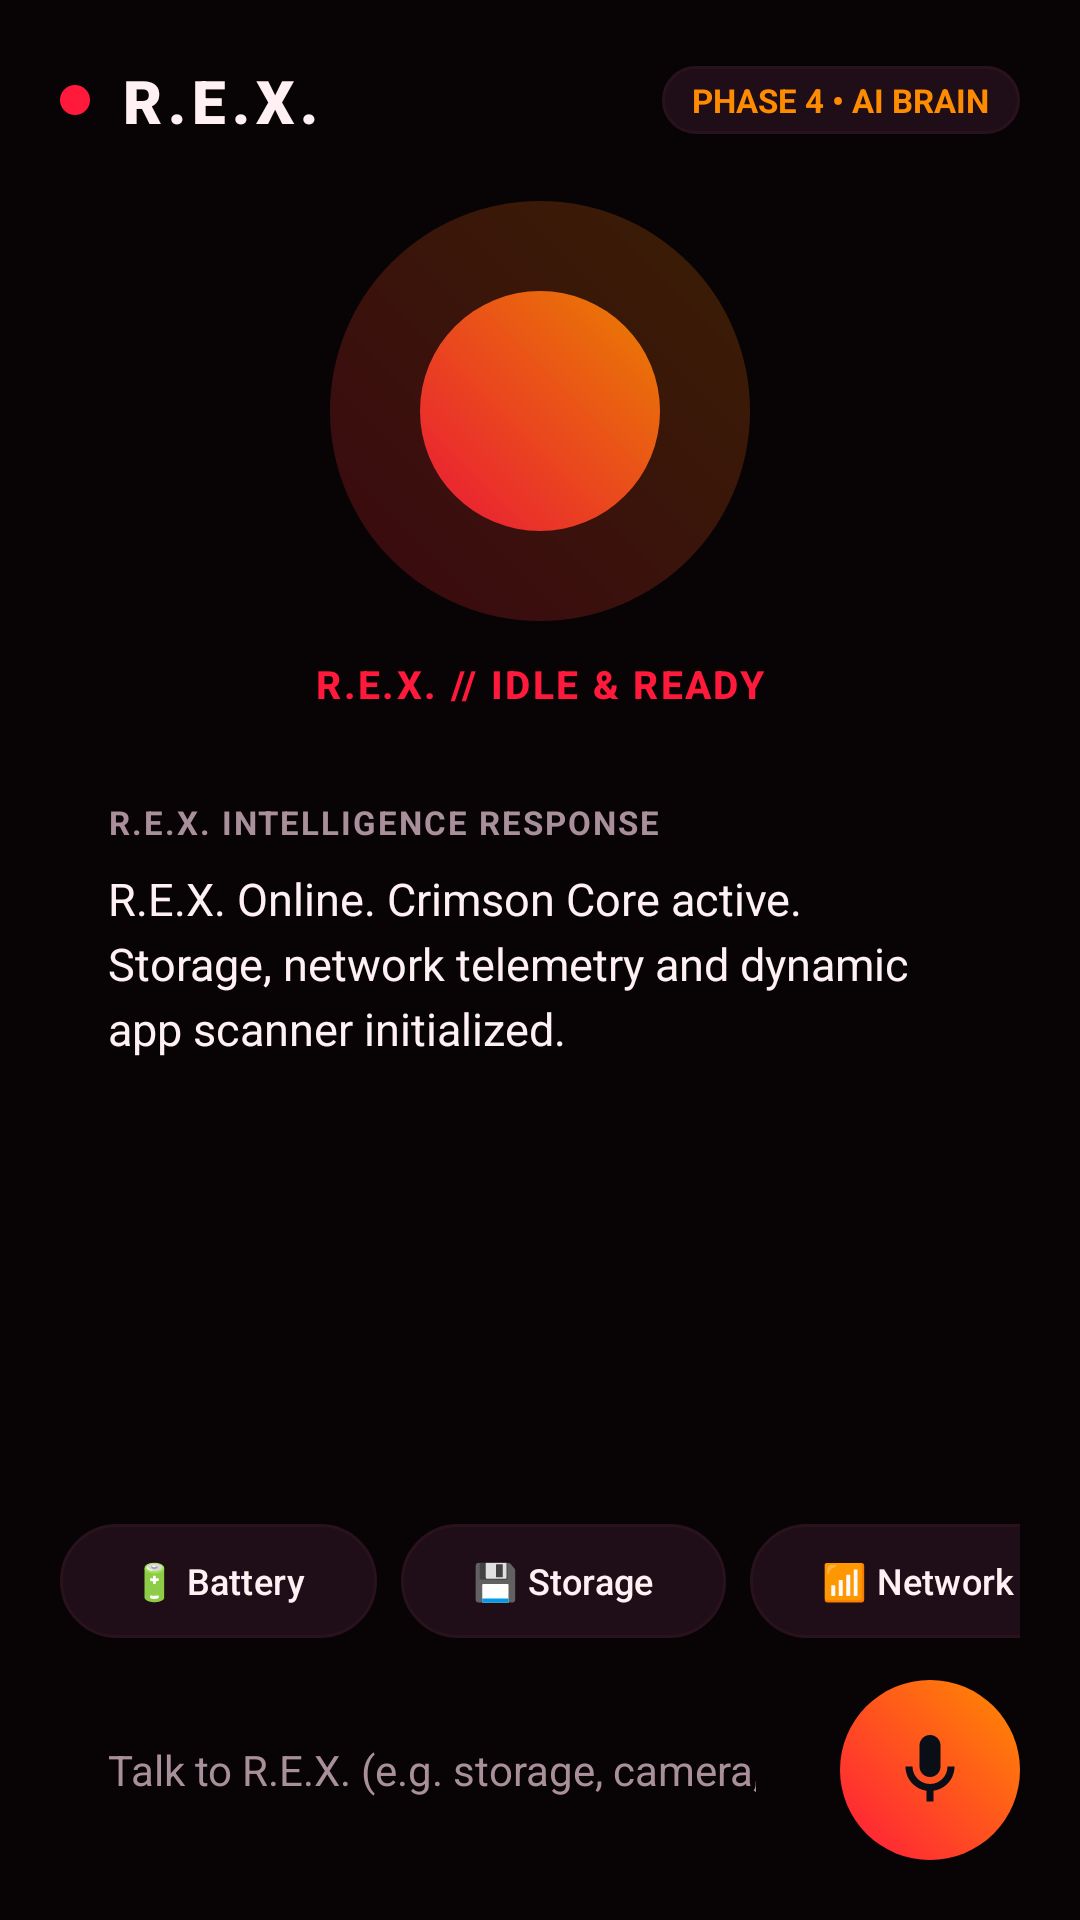

Icons on this 1080*1920 Android screen, each with its box as box(x1, y1, x2, y2):
Tap to speak or type command to R.E.X: box(840, 1680, 1020, 1860)
